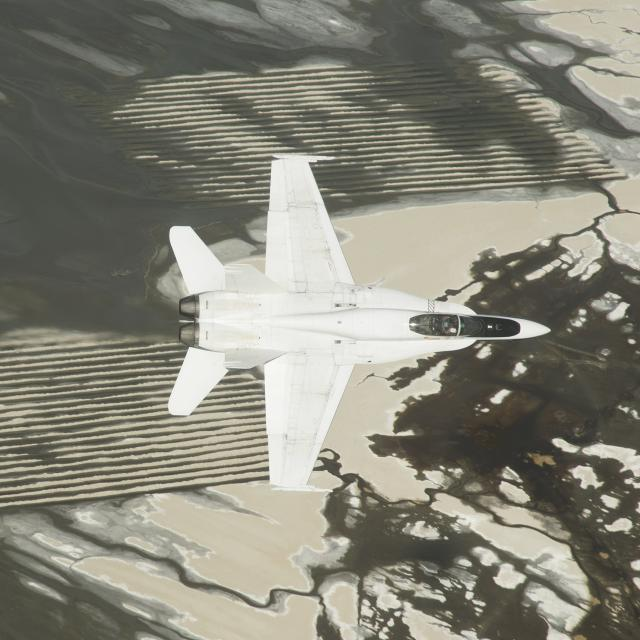MIL_Plane: (168, 154, 551, 493)
